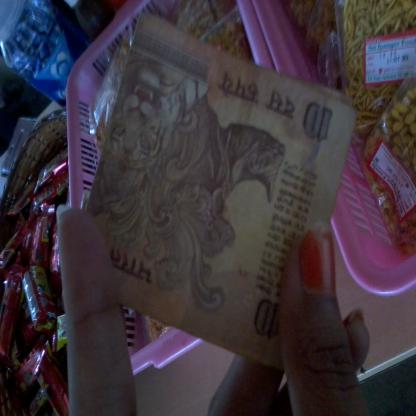Old10Back: (85, 9, 358, 369)
